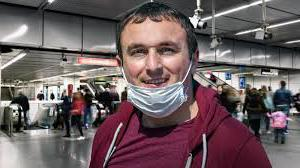mask_weared_incorrect: (123, 37, 186, 104)
